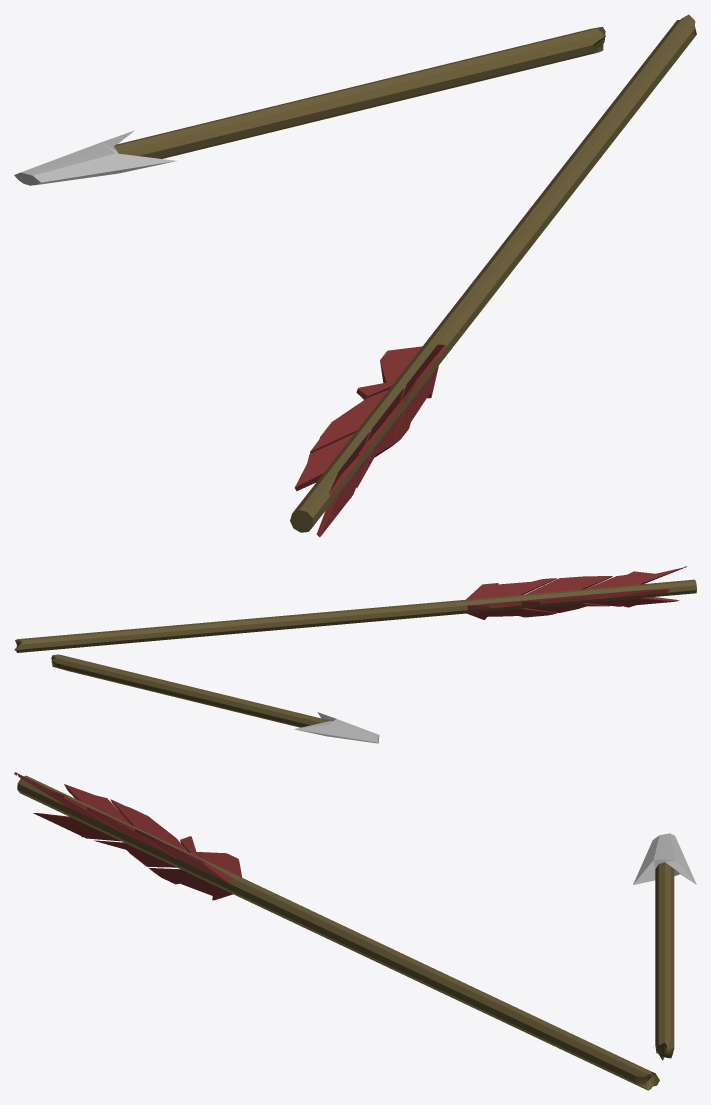
Rendered from Arrow_broken.fbx.
3 renders of one model, top to bottom at view 1: azimuth 30°, elevation 25°; view 2: azimuth 150°, elevation 25°; view 3: azimuth 270°, elevation 25°, orthographic. The views are drawn at different scales.
Parts seen in each view (by area): view 1: polySurface7, polySurface4; view 2: polySurface7, polySurface4; view 3: polySurface7, polySurface4.
Boxes of the visible parts, box(x1,y1,x2,y2) form: polySurface7: box(290, 14, 696, 537); polySurface4: box(14, 26, 605, 185); polySurface7: box(14, 566, 696, 652); polySurface4: box(51, 654, 379, 743); polySurface7: box(14, 772, 659, 1090); polySurface4: box(633, 833, 696, 1060).
Bounding box in the file's own units: 12.75 × 0.8681 × 12.19.
